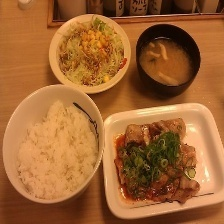rice: (11, 100, 103, 198)
